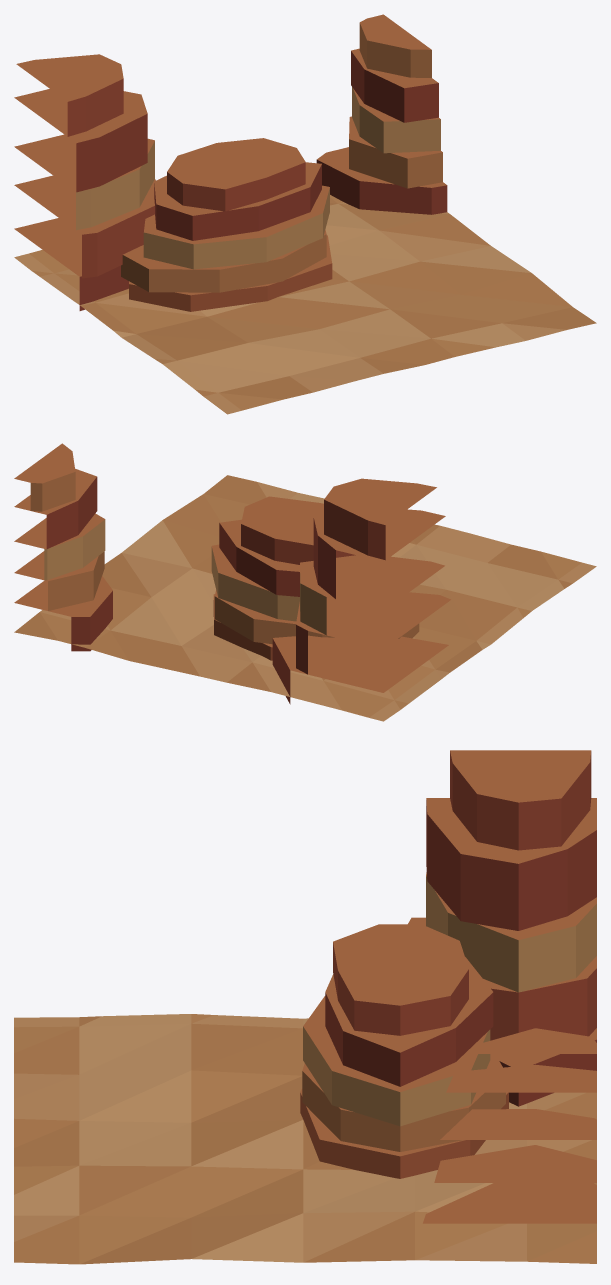
The picture shows the model from 3 angles, top to bottom: view 1: azimuth 30°, elevation 25°; view 2: azimuth 150°, elevation 25°; view 3: azimuth 270°, elevation 25°; orthographic projection. The views are drawn at different scales.
Parts seen in each view (by area): view 1: baked; view 2: baked; view 3: baked.
Part boxes in pixels (x1,y1,x2,y2): baked: (14, 14, 596, 414); baked: (14, 443, 596, 721); baked: (14, 750, 596, 1264).
Bounding box in the file's own units: 62.5 × 32.44 × 62.5.
